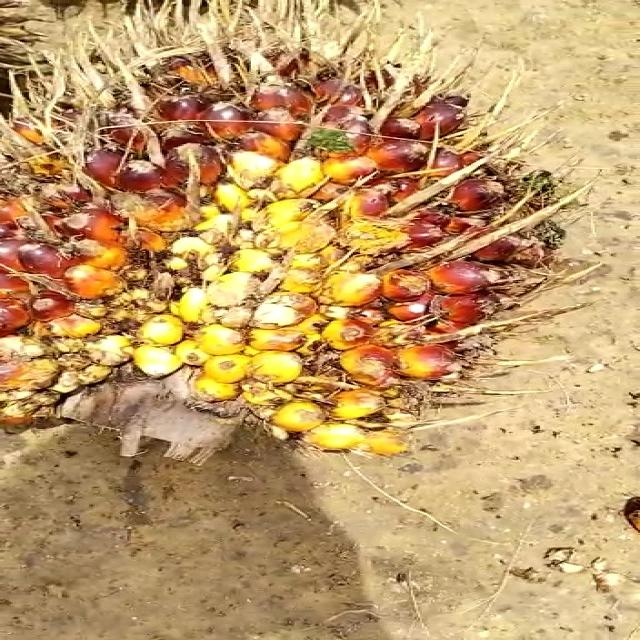palm oil: (0, 18, 551, 480)
